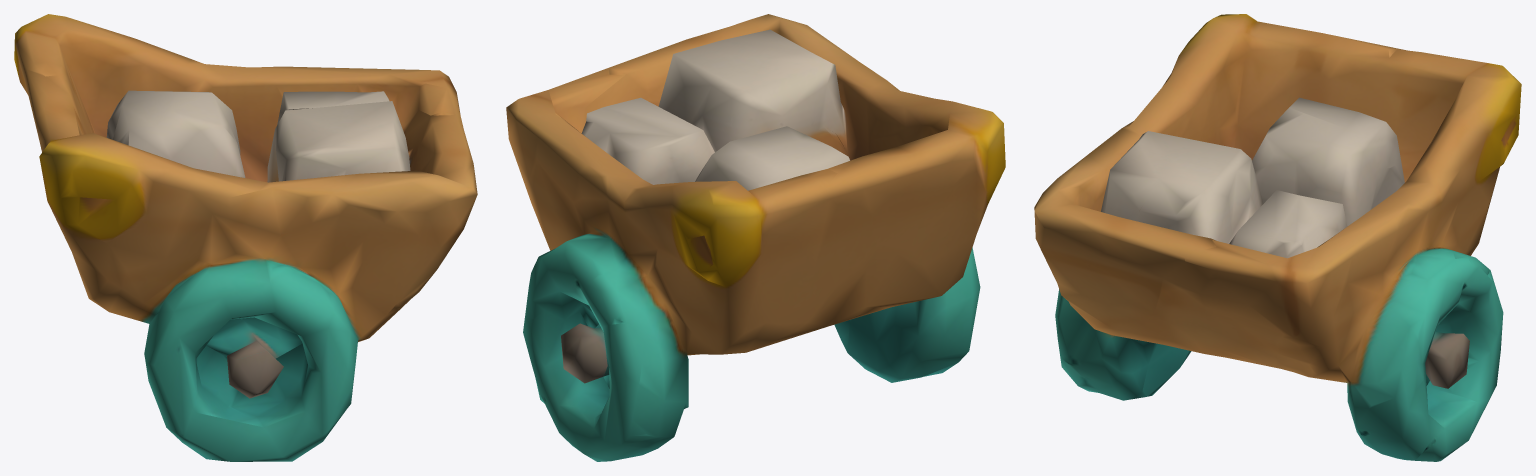
Rendered from textures.glb.
3 renders of one model, left to right at view 1: azimuth 30°, elevation 25°; view 2: azimuth 150°, elevation 25°; view 3: azimuth 270°, elevation 25°, orthographic. The views are drawn at different scales.
Visible parts, largest first — view 1: tripo_node_6fb72cab-015a-45d8-a3b9-bad664959b0b; view 2: tripo_node_6fb72cab-015a-45d8-a3b9-bad664959b0b; view 3: tripo_node_6fb72cab-015a-45d8-a3b9-bad664959b0b.
Part boxes in pixels (box(x1,y1,x2,y2)): tripo_node_6fb72cab-015a-45d8-a3b9-bad664959b0b: box(14, 14, 477, 461); tripo_node_6fb72cab-015a-45d8-a3b9-bad664959b0b: box(506, 14, 1005, 461); tripo_node_6fb72cab-015a-45d8-a3b9-bad664959b0b: box(1034, 14, 1521, 461).
Size of the model in its own units: 1 by 0.6805 by 0.9768.
1 material, 1 textured.
